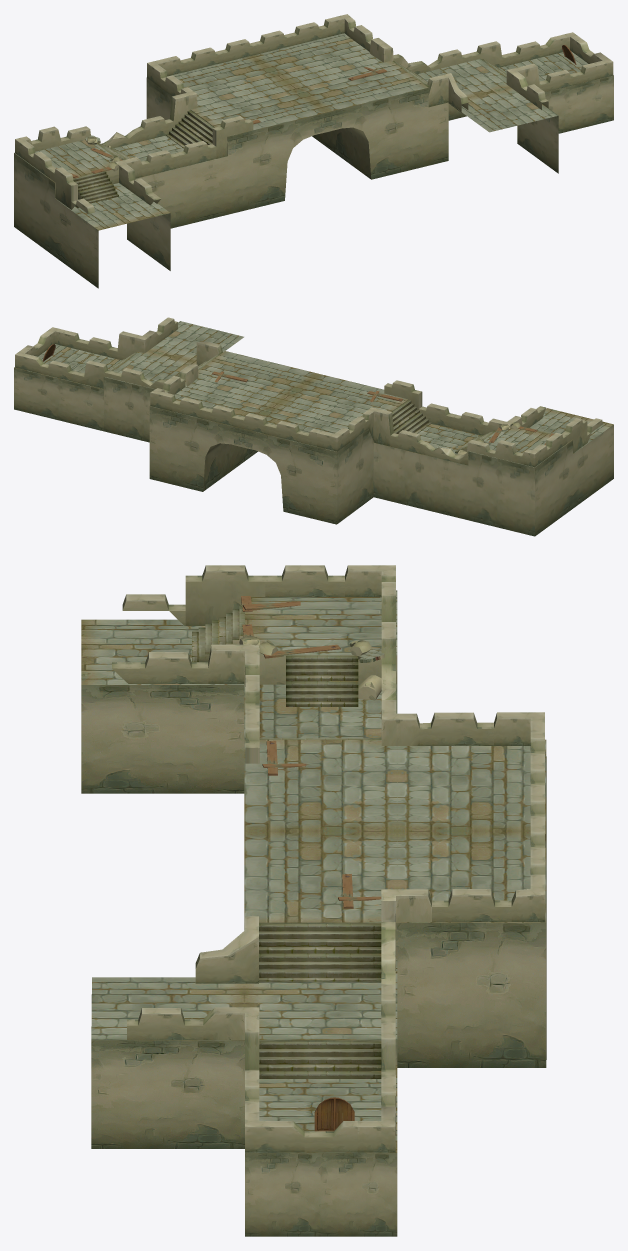
Rendered from chengqiang1.FBX.
3 views of the same model, one above another, from view 1: azimuth 30°, elevation 25°; view 2: azimuth 150°, elevation 25°; view 3: azimuth 270°, elevation 25° (orthographic). The views are drawn at different scales.
Parts seen in each view (by area): view 1: chenqiang; view 2: chenqiang; view 3: chenqiang.
Part boxes in pixels (<box>): chenqiang: <box>14,14,613,288</box>; chenqiang: <box>14,317,613,536</box>; chenqiang: <box>81,565,546,1236</box>.
Bounding box in the file's own units: 2661 × 422 × 1030.
